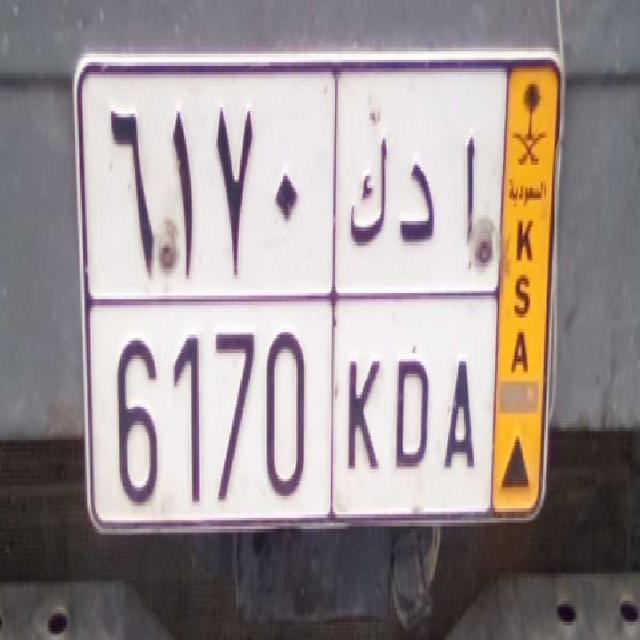license_plate: (85, 293, 495, 527)
